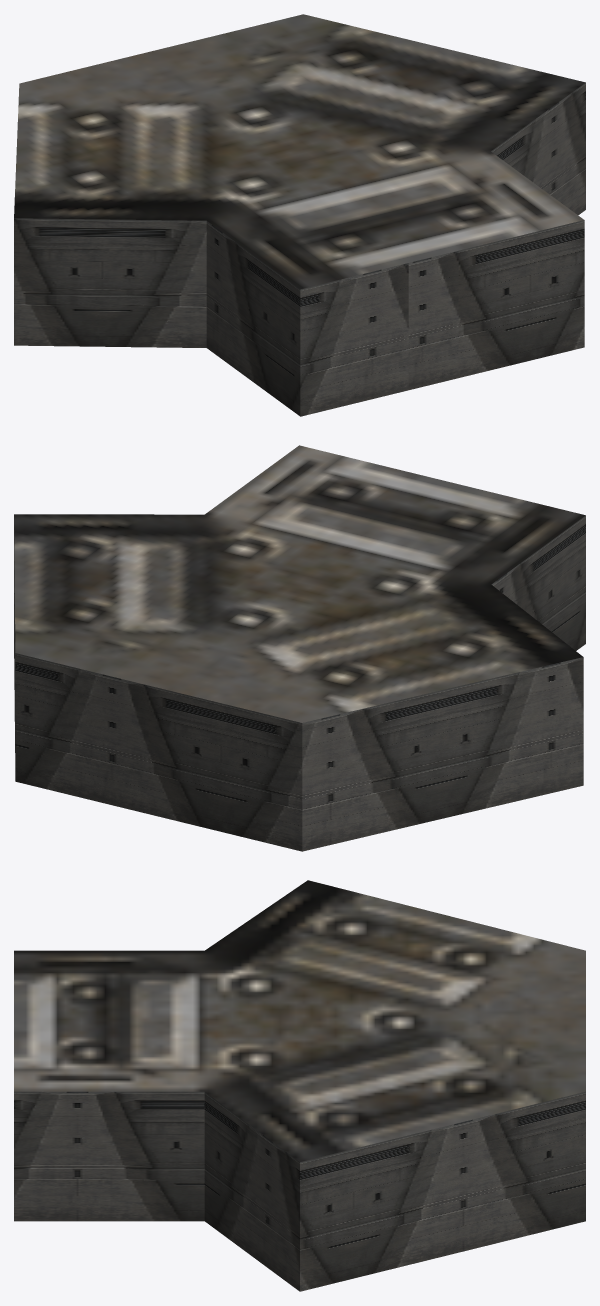
Rendered from fortress_heavy_43.glb.
The picture shows the model from 3 angles, top to bottom: view 1: azimuth 30°, elevation 25°; view 2: azimuth 150°, elevation 25°; view 3: azimuth 270°, elevation 25°; orthographic projection.
Parts seen in each view (by area): view 1: buildings/saxarba/fortress_heavy/fortress_heavy_43; view 2: buildings/saxarba/fortress_heavy/fortress_heavy_43; view 3: buildings/saxarba/fortress_heavy/fortress_heavy_43.
Boxes of the visible parts, x1=… form: buildings/saxarba/fortress_heavy/fortress_heavy_43: x1=14, y1=14, x2=585, y2=416; buildings/saxarba/fortress_heavy/fortress_heavy_43: x1=14, y1=445, x2=585, y2=851; buildings/saxarba/fortress_heavy/fortress_heavy_43: x1=14, y1=880, x2=585, y2=1291.
Size of the model in its own units: 84 by 18 by 72.
